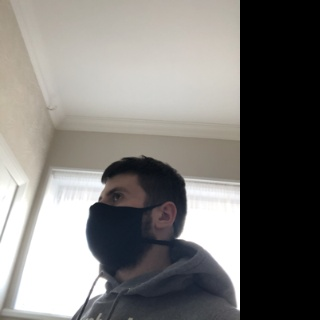with_mask: (86, 184, 148, 268)
